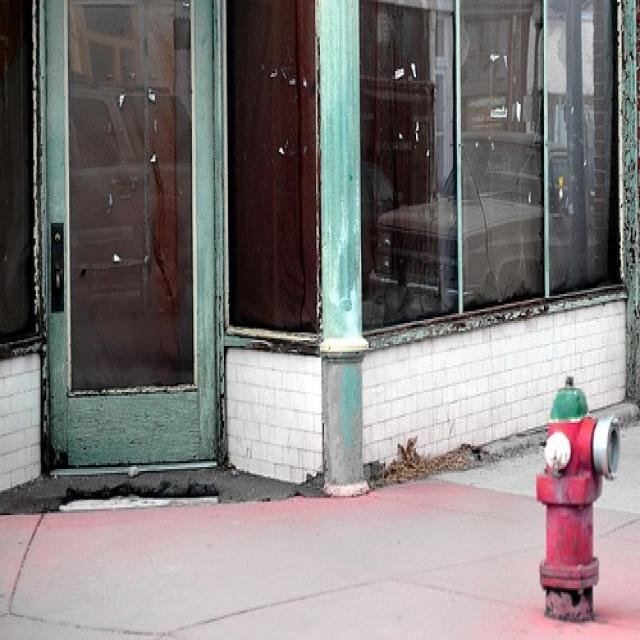fire_hydrant: (534, 369, 622, 617)
